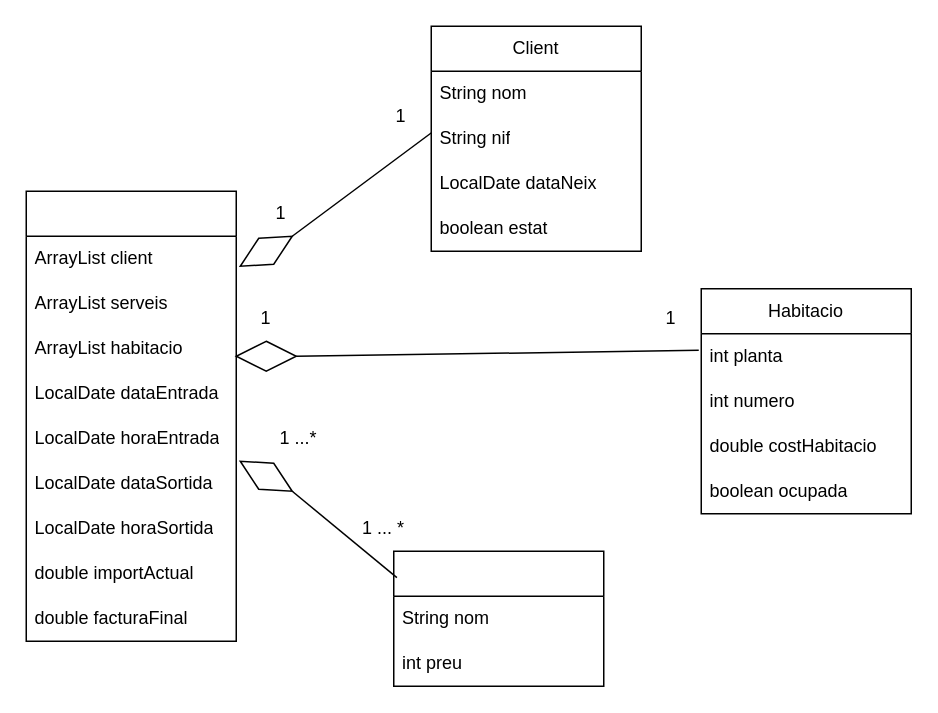
This 938x713 diagram has some shape labels left out. The box of each missing label's shape, as (x1, y1, x2, y2) in pixels:
Estada: (25, 190, 236, 641)
Servei: (392, 550, 604, 686)
